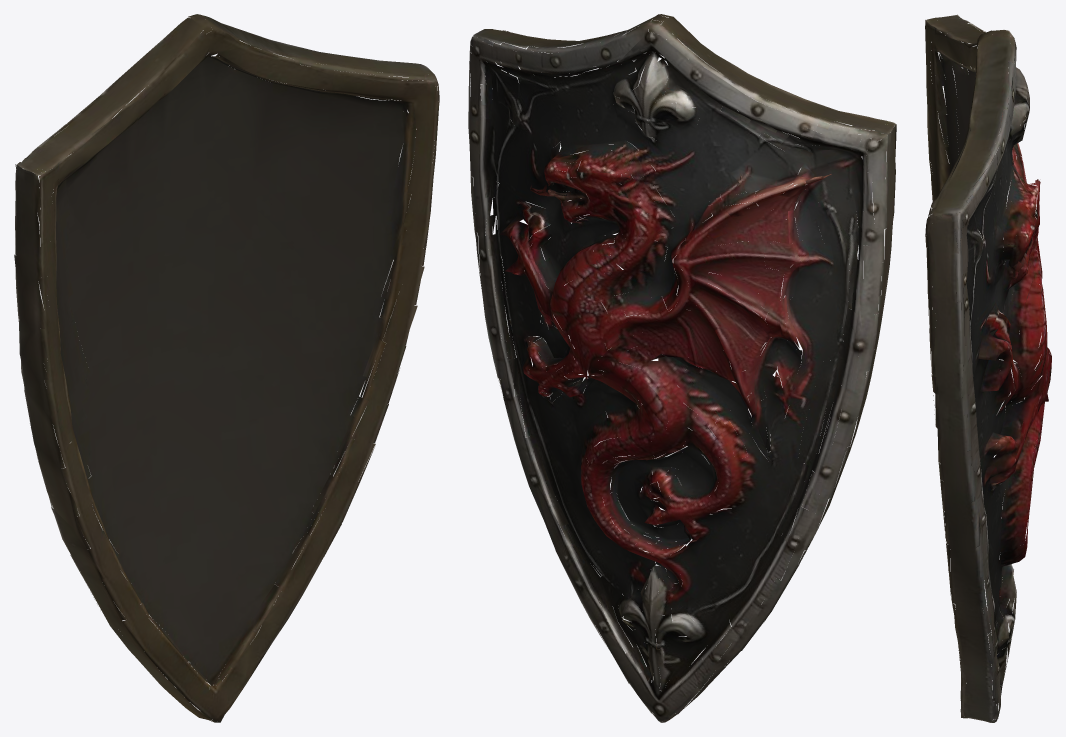
Rendered from kite_dragon.glb.
3 renders of one model, left to right at view 1: azimuth 30°, elevation 25°; view 2: azimuth 150°, elevation 25°; view 3: azimuth 270°, elevation 25°, orthographic. The views are drawn at different scales.
Parts seen in each view (by area): view 1: kite_dragon; view 2: kite_dragon; view 3: kite_dragon.
Part boxes in pixels (bbox=[...]): kite_dragon: bbox=[14, 14, 439, 722]; kite_dragon: bbox=[468, 14, 896, 722]; kite_dragon: bbox=[925, 14, 1051, 722].
Bounding box in the file's own units: 0.4526 × 0.7295 × 0.1215.
Materials: 1 (1 with a texture image).
